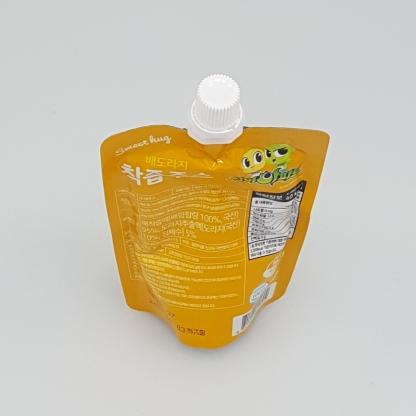-------------------100ML: (100, 73, 331, 349)
